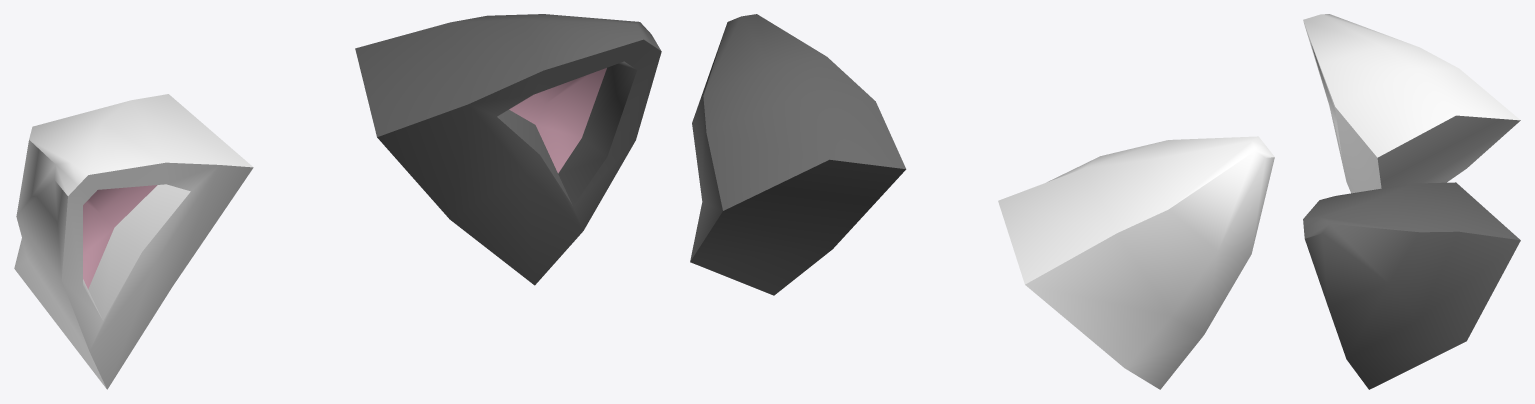
The model's file is catears1.fbx.
The picture shows the model from 3 angles, left to right: view 1: azimuth 30°, elevation 25°; view 2: azimuth 150°, elevation 25°; view 3: azimuth 270°, elevation 25°; orthographic projection. The views are drawn at different scales.
Visible parts, largest first — view 1: catears1; view 2: catears1; view 3: catears1.
Part boxes in pixels (bbox=[...]): catears1: bbox=[14, 14, 661, 389]; catears1: bbox=[690, 14, 1274, 389]; catears1: bbox=[1303, 14, 1520, 389].
Bounding box in the file's own units: 133 × 57.11 × 57.14.
1 material, 1 textured.
